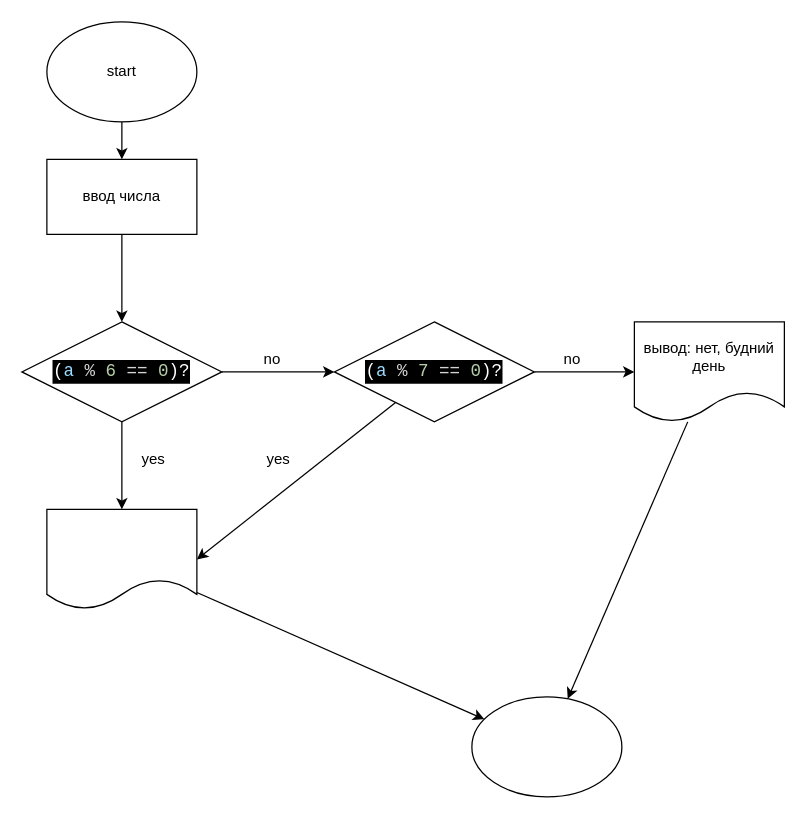
This 806x819 diagram has some shape labels left out. Each missing label, with the box of its shape:
end: (471, 696, 622, 797)
вывод: да, выходной: (46, 508, 197, 609)
